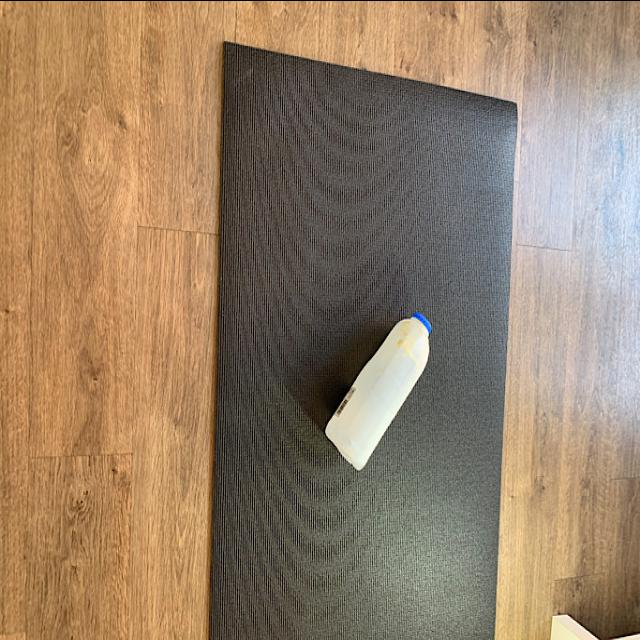litter: (324, 307, 436, 475)
